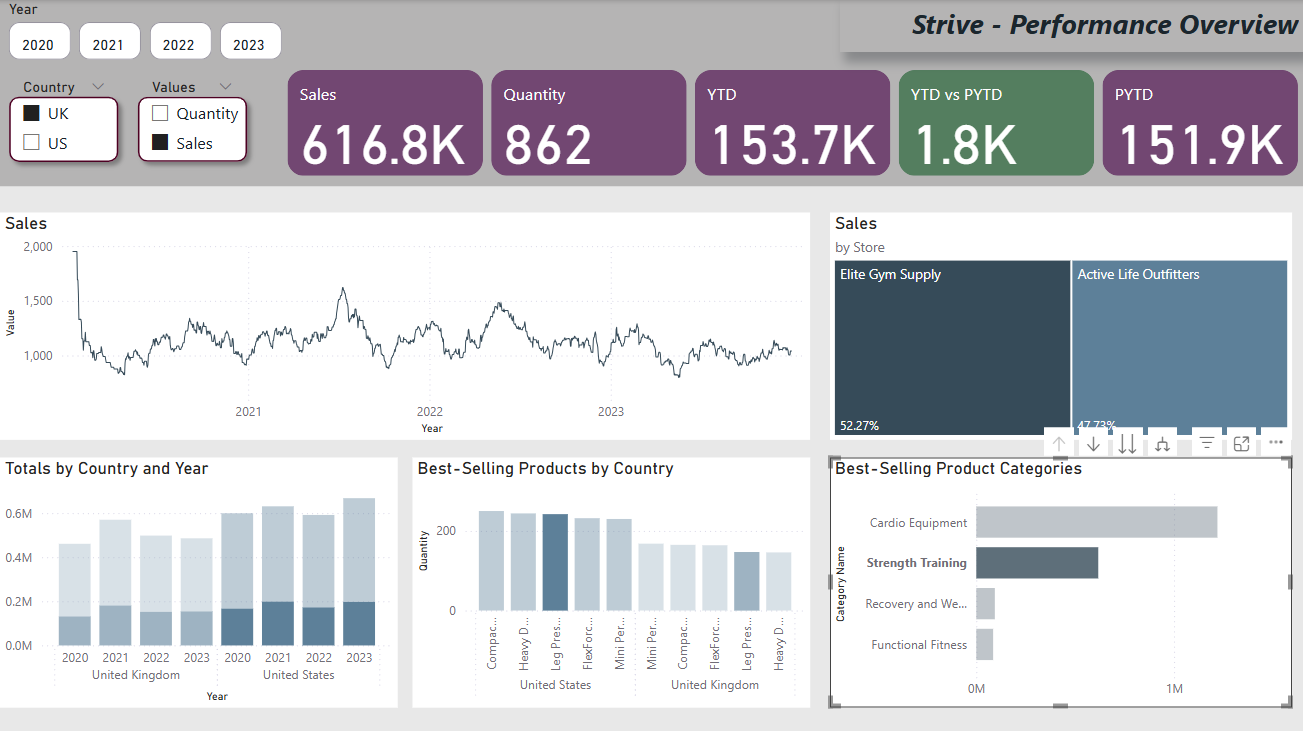

Layout of this report page (visuals, bound fields, positions):
{"tool":"powerbi","page":{"name":"Page 1","canvas":[1280,720],"ordinal":0},"visuals":[{"type":"shape","box":[0,0,1279.8,182.8],"z":0},{"type":"shape","box":[0,85.6,125.2,82.1],"z":1000,"group":"g2"},{"type":"advancedSlicerVisual","fields":{"Values":["dim_dates.Year"]},"box":[8.6,0,274.8,63.8],"z":2000},{"type":"shape","box":[126.4,85.6,125.2,82],"z":2000,"group":"g1"},{"type":"treemap","fields":{"Group":["dim_stores.store_name"],"Values":["All Measures.Switch Totals"]},"box":[814.7,208.6,454,223],"z":3000},{"type":"slicer","fields":{"Values":["Slicer1.Values"]},"box":[136.8,72.4,104.3,95.7],"z":4000,"group":"g1"},{"type":"clusteredColumnChart","title":"Totals by Country and Year","fields":{"Category":["dim_stores.country_name","dim_dates.Year"],"Y":["All Measures.Switch Totals"]},"box":[0,449.1,390,245.4],"z":4000},{"type":"lineStackedColumnComboChart","title":"Best-Selling Products by Country","fields":{"Category":["dim_stores.country_name","dim_products.product_name"],"Y":["Divide(All Measures.Total Products Sold, ScopedEval(All Measures.Total Products Sold, []))"]},"box":[405.1,449.1,390,245.4],"z":5000},{"type":"barChart","title":"Best-Selling Product Categories","fields":{"Category":["dim_products.category_name","dim_products.subcategory_name","dim_products.product_name"],"Y":["All Measures.Switch Totals"]},"box":[814.7,449.1,454,245.4],"z":6000},{"type":"lineChart","fields":{"Y":["All Measures.Switch Moving Average"],"Category":["dim_dates.Year-Month"]},"box":[0,208.6,795.1,223.3],"z":7000},{"type":"cardVisual","fields":{"Data":["All Measures.Switch Total Sales","All Measures.Switch Quantity","All Measures.Switch_YTD","All Measures.Switch YTD vs PYTD","All Measures.Switch_PYTD"]},"box":[277.3,63.8,1002.5,114.1],"z":8000},{"type":"slicer","fields":{"Values":["Slicer2.Country"]},"box":[9.5,72.4,105.5,85.9],"z":9000,"group":"g2"},{"type":"group","id":"g1","title":"Group 1","box":[126.4,72.4,125.2,95.7],"z":9000},{"type":"group","id":"g2","title":"Group 2","box":[0,72.4,126.4,95.7],"z":10000},{"type":"textbox","box":[824.5,0,455.2,51.5],"z":11000}]}

Visuals, with their boxes in screenshot pixels (x1, y1, x2, y2), scaled from the page's 1280x720 canvas onto the 1303x731 screenshot:
shape: box=[0, 0, 1302, 186]
shape: box=[0, 87, 127, 170]
advancedSlicerVisual - dim_dates.Year: box=[9, 0, 288, 65]
shape: box=[129, 87, 256, 170]
treemap - dim_stores.store_name x All Measures.Switch Totals: box=[829, 212, 1291, 438]
slicer - Slicer1.Values: box=[139, 74, 245, 171]
"Totals by Country and Year" clusteredColumnChart: box=[0, 456, 397, 705]
"Best-Selling Products by Country" lineStackedColumnComboChart: box=[412, 456, 809, 705]
"Best-Selling Product Categories" barChart: box=[829, 456, 1291, 705]
lineChart - All Measures.Switch Moving Average x dim_dates.Year-Month: box=[0, 212, 809, 438]
cardVisual - All Measures.Switch Total Sales x All Measures.Switch Quantity: box=[282, 65, 1302, 181]
slicer - Slicer2.Country: box=[10, 74, 117, 161]
"Group 1" group: box=[129, 74, 256, 171]
"Group 2" group: box=[0, 74, 129, 171]
textbox: box=[839, 0, 1302, 52]
